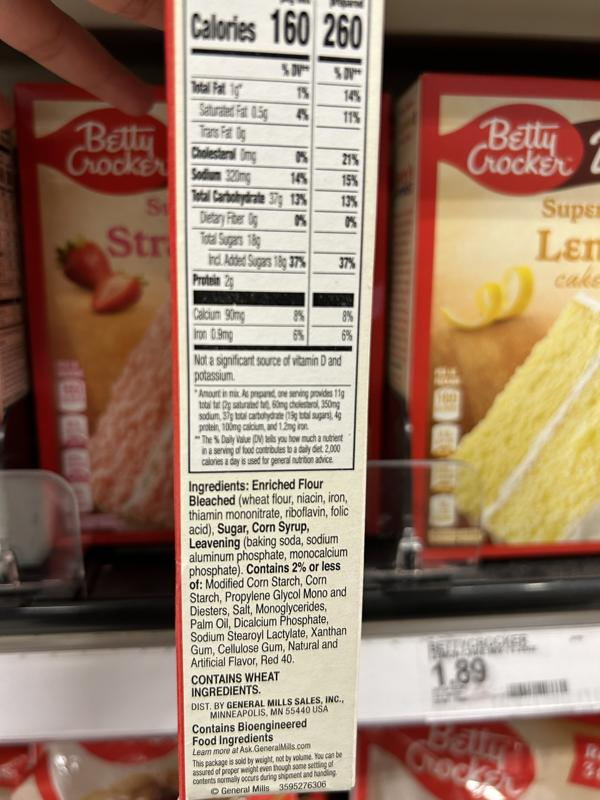ingredients: (185, 477, 357, 670)
